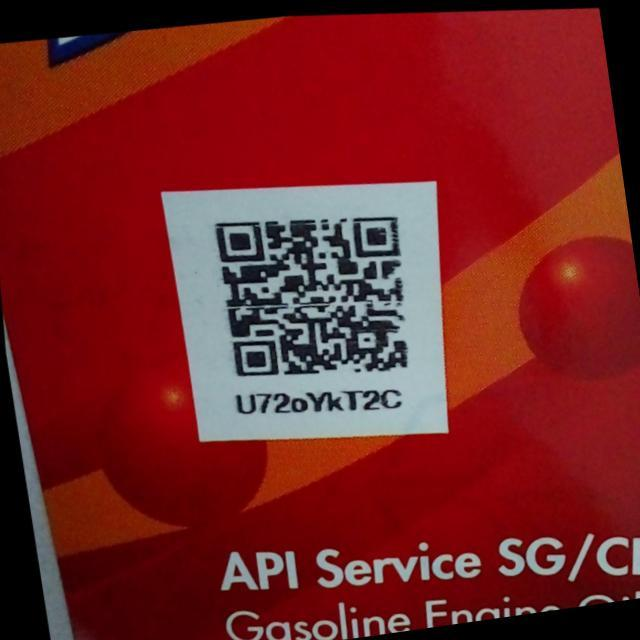QRCode: (187, 180, 434, 403)
